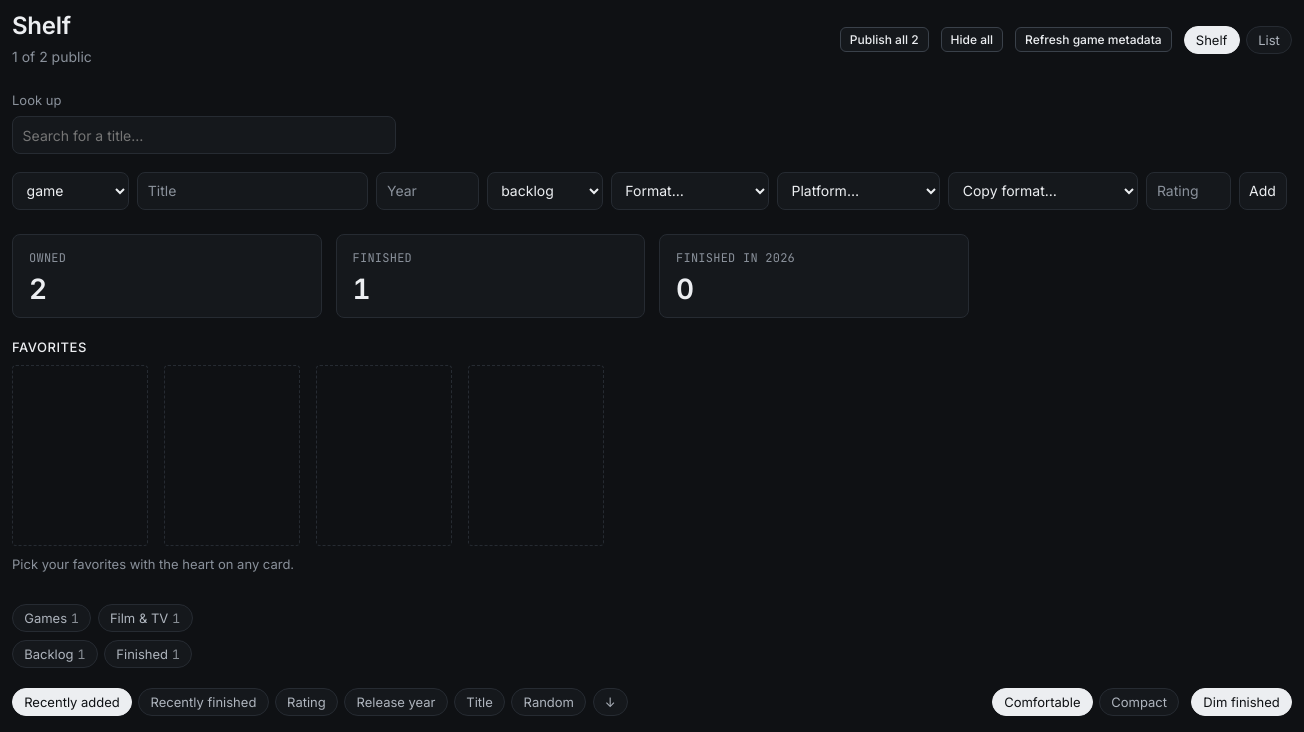
AdminCollection shelf › switches to the list and remembers it
Click the button "List".
click(1269, 40)  # box 1246,26 -> 1292,54
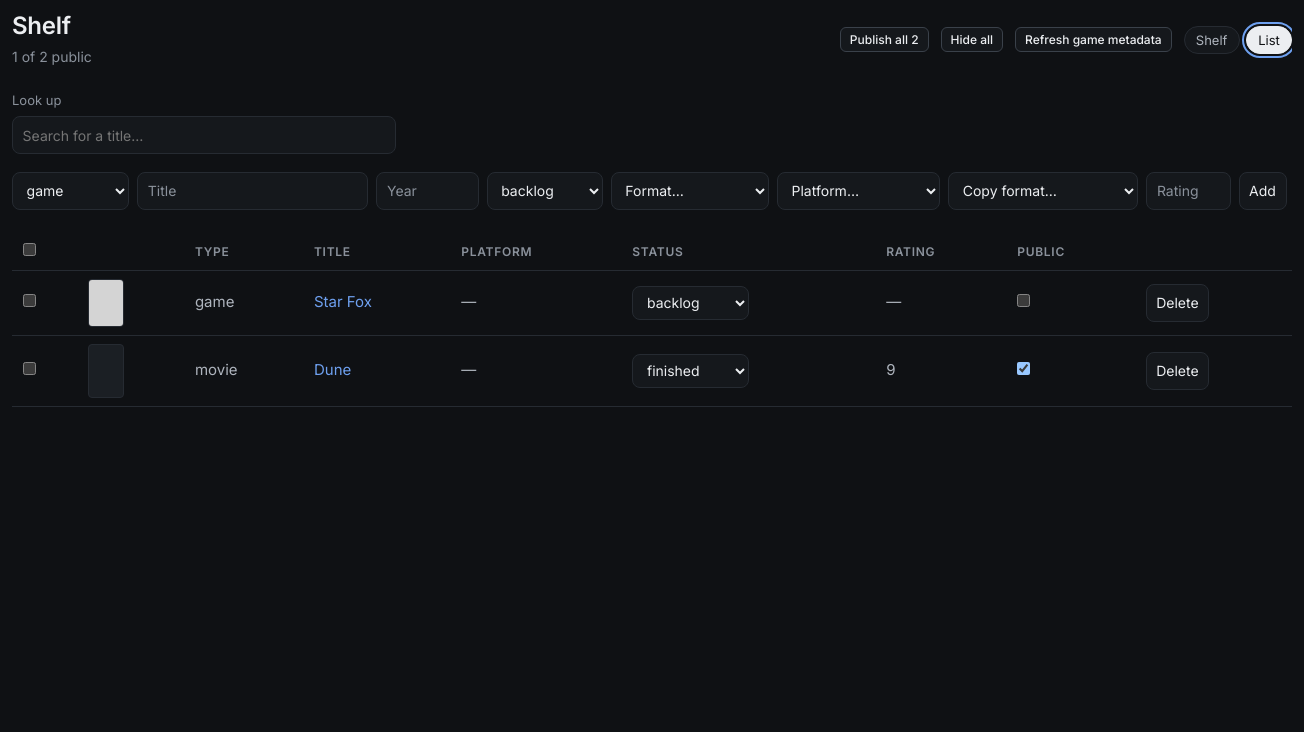
Result: the table with class "item-table" is shown at 12,234 -> 1292,407
